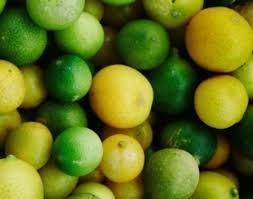lemon: (185, 6, 253, 72), (91, 64, 153, 129), (193, 74, 248, 129), (5, 121, 53, 170), (99, 133, 145, 184), (0, 154, 43, 199), (0, 59, 25, 115), (20, 64, 47, 107)
